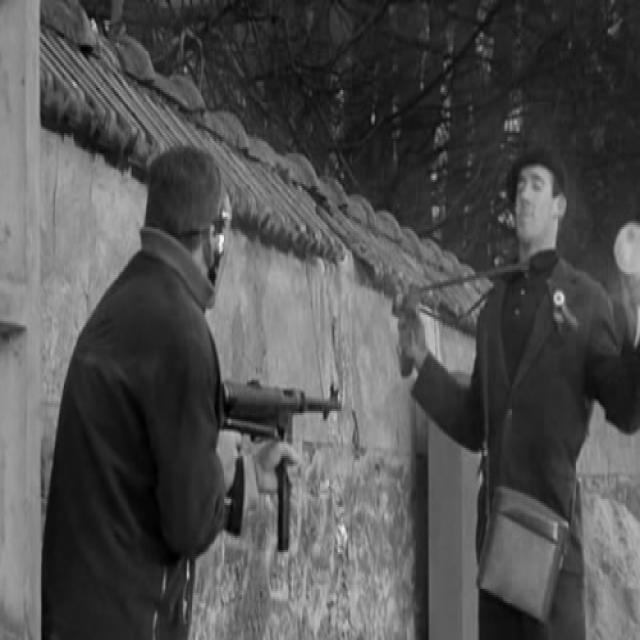rifle: (223, 368, 346, 550)
